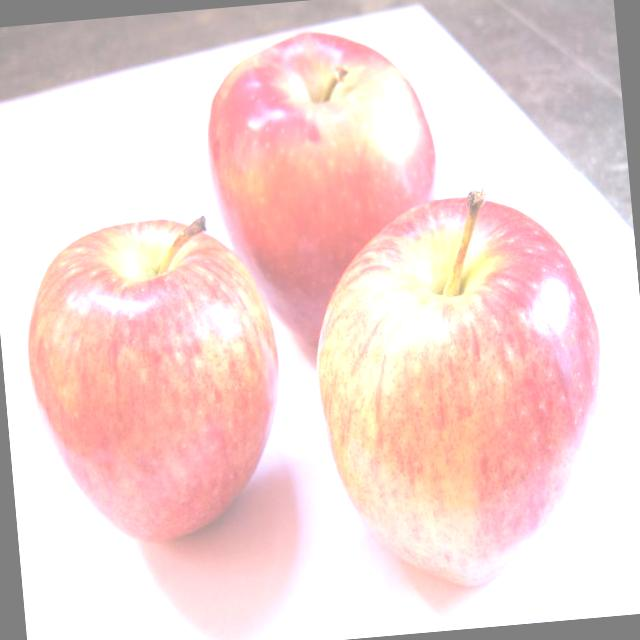Apple: (301, 176, 623, 599), (15, 206, 294, 552), (197, 19, 452, 354)
